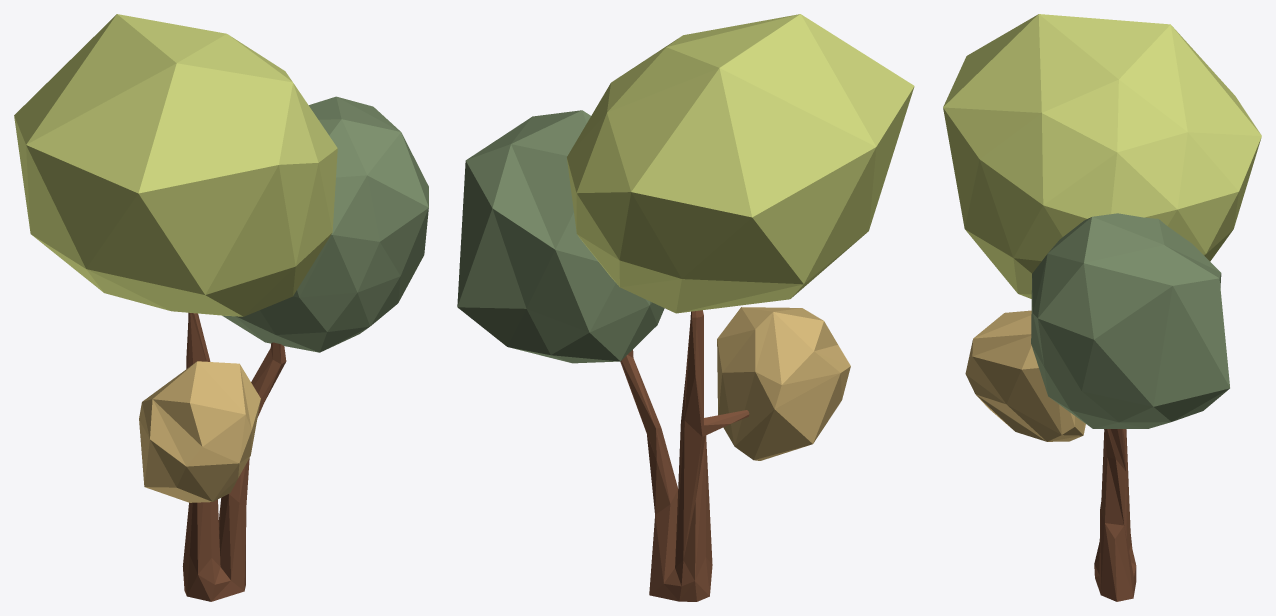
Rendered from A_Arvore5.fbx.
3 renders of one model, left to right at view 1: azimuth 30°, elevation 25°; view 2: azimuth 150°, elevation 25°; view 3: azimuth 270°, elevation 25°, orthographic. The views are drawn at different scales.
Parts seen in each view (by area): view 1: Icosphere.001; view 2: Icosphere.001; view 3: Icosphere.001.
Boxes of the visible parts, box(x1,y1,x2,y2) form: Icosphere.001: box(14, 14, 428, 601); Icosphere.001: box(457, 14, 914, 601); Icosphere.001: box(943, 14, 1261, 601).
Bounding box in the file's own units: 2049 × 2844 × 1528.
